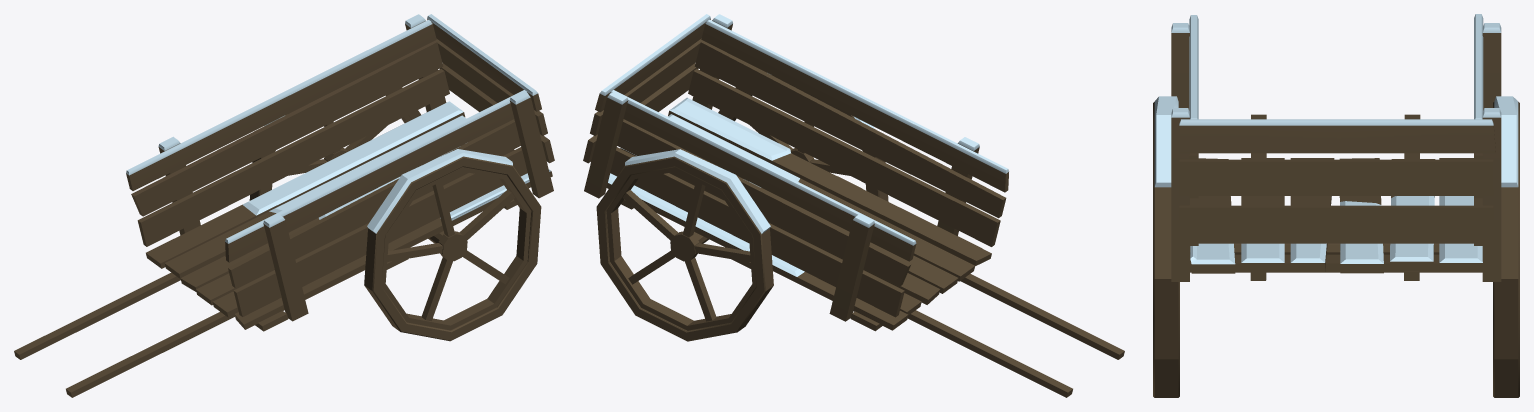
File: model_polytope_snow_cart.fbx
3 renders of one model, left to right at view 1: azimuth 30°, elevation 25°; view 2: azimuth 150°, elevation 25°; view 3: azimuth 270°, elevation 25°, orthographic. The views are drawn at different scales.
Parts seen in each view (by area): view 1: model_polytop_snow_cart; view 2: model_polytop_snow_cart; view 3: model_polytop_snow_cart.
Boxes of the visible parts, <box> form: model_polytop_snow_cart: <box>14,14,554,397</box>; model_polytop_snow_cart: <box>583,14,1124,397</box>; model_polytop_snow_cart: <box>1153,14,1519,397</box>.
Size of the model in its own units: 286 by 131 by 133.
1 material, 1 textured.
